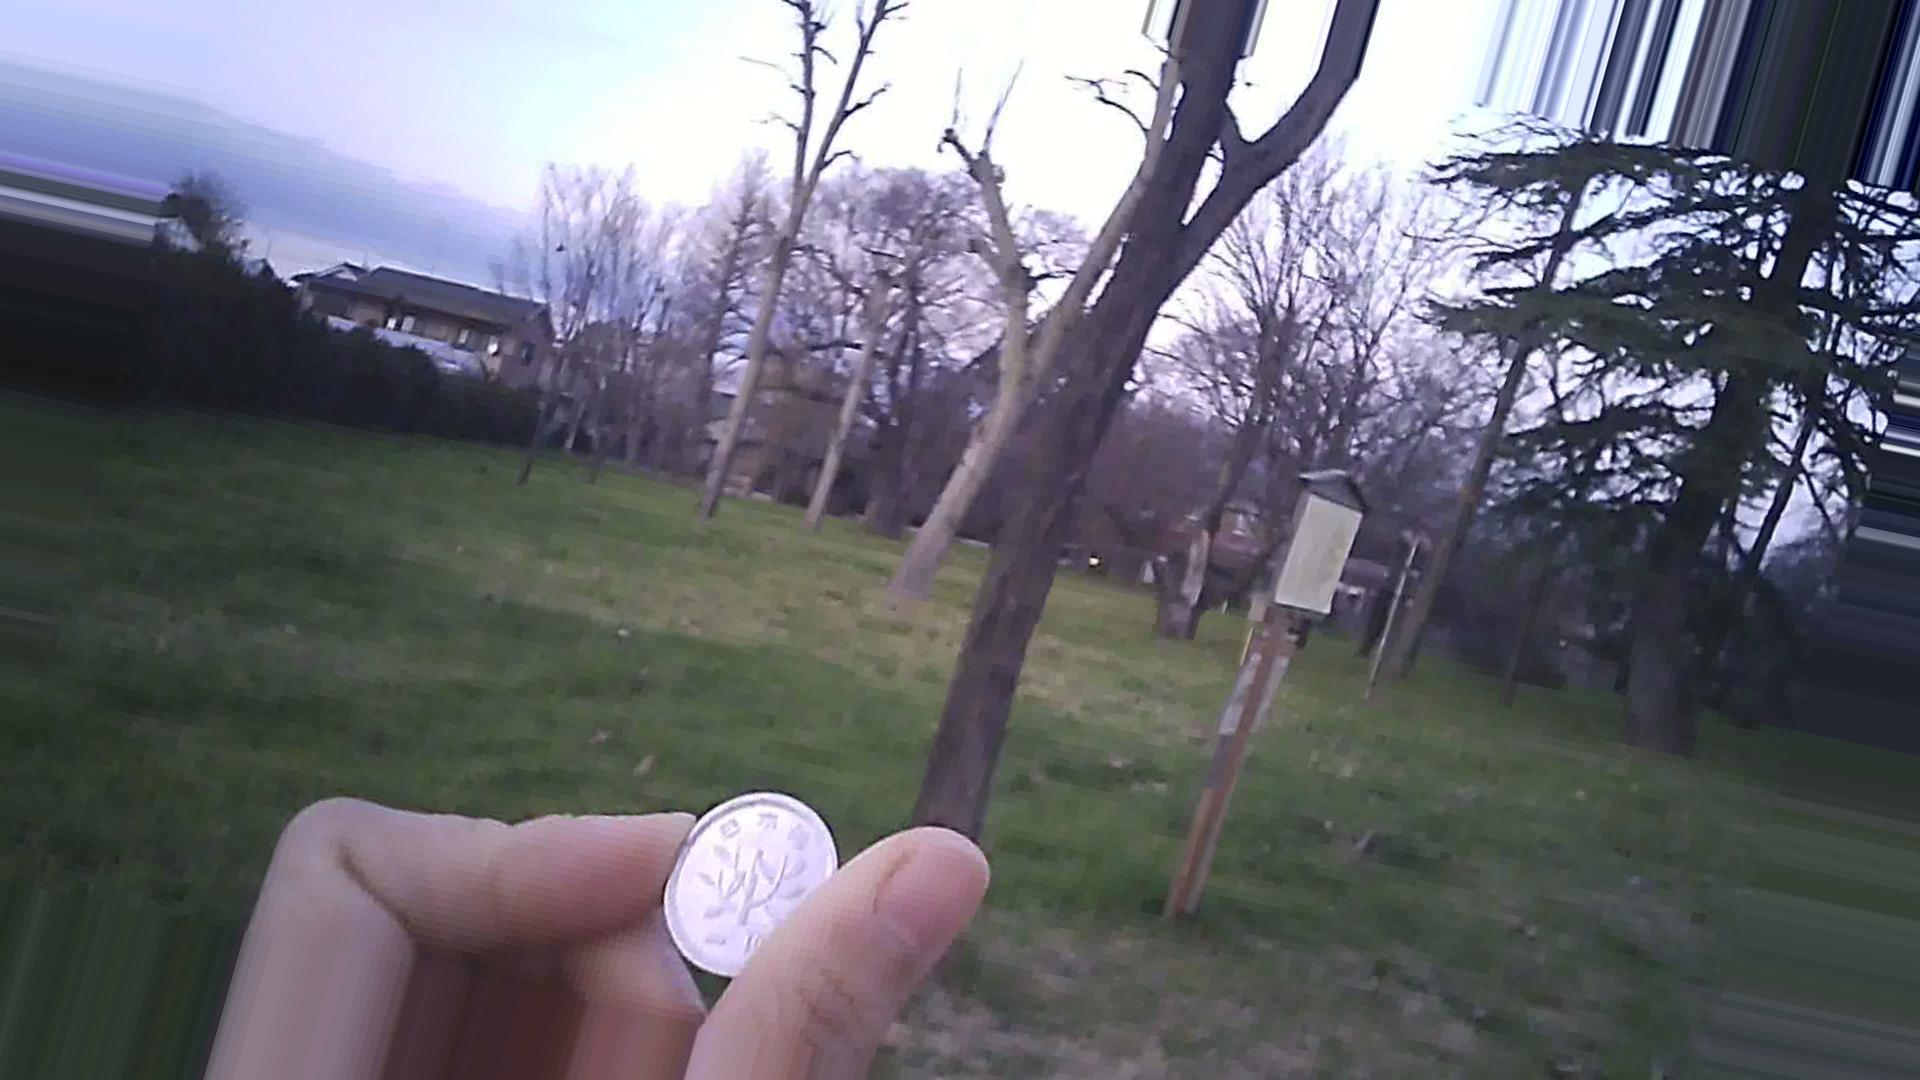1 Yen: (655, 774, 851, 978)
